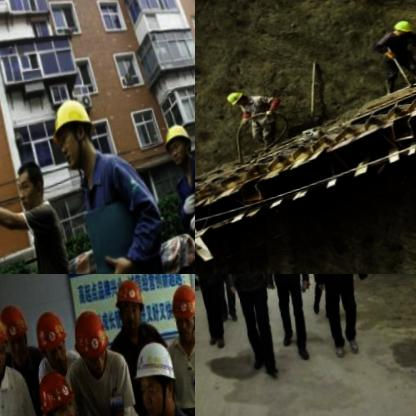helmet: (43, 90, 102, 176), (128, 339, 182, 416), (70, 306, 114, 375), (31, 306, 73, 377), (0, 298, 32, 369), (109, 275, 145, 337), (32, 370, 78, 416), (166, 276, 195, 346), (159, 118, 195, 170), (0, 304, 12, 380), (385, 15, 416, 39), (222, 87, 252, 109)
